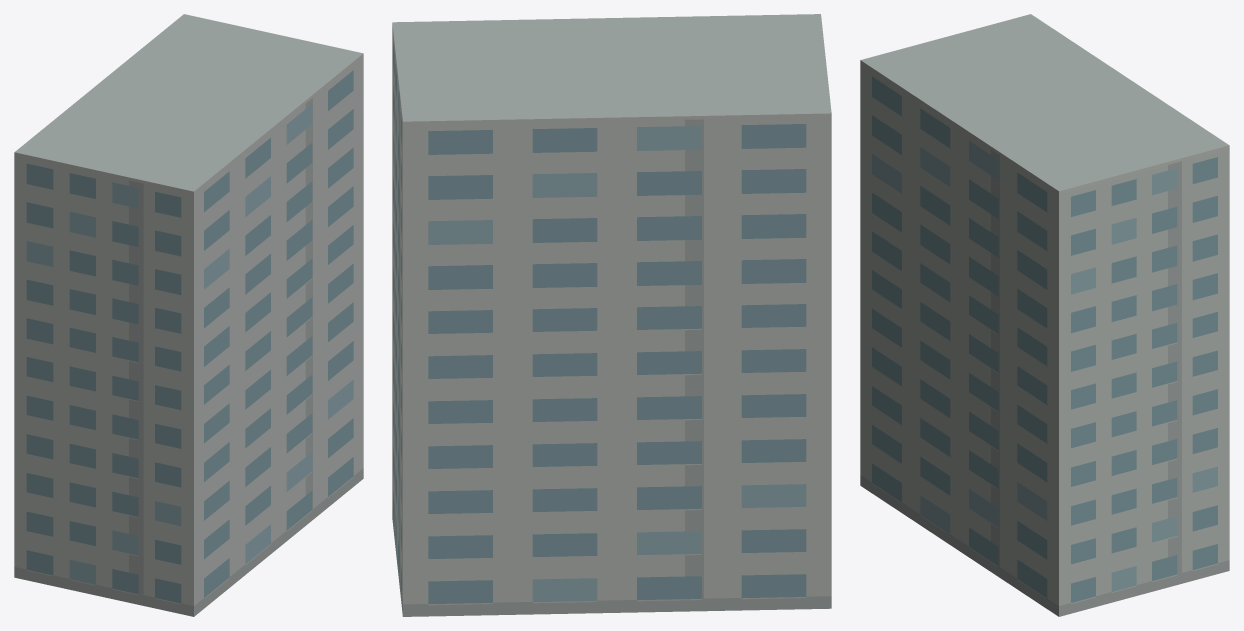
The model's file is residential-51fcd6c9-0e56-41c2-8e9c-8c9070076f2b.glb.
3 renders of one model, left to right at view 1: azimuth 30°, elevation 25°; view 2: azimuth 150°, elevation 25°; view 3: azimuth 270°, elevation 25°, orthographic. The views are drawn at different scales.
Parts seen in each view (by area): view 1: residential-51fcd6c9-0e56-41c2-8e9c-8c9070076f2b.tmp; view 2: residential-51fcd6c9-0e56-41c2-8e9c-8c9070076f2b.tmp; view 3: residential-51fcd6c9-0e56-41c2-8e9c-8c9070076f2b.tmp.
Boxes of the visible parts, x1,y1,x2,y2 form: residential-51fcd6c9-0e56-41c2-8e9c-8c9070076f2b.tmp: (14, 14, 363, 616); residential-51fcd6c9-0e56-41c2-8e9c-8c9070076f2b.tmp: (392, 14, 831, 616); residential-51fcd6c9-0e56-41c2-8e9c-8c9070076f2b.tmp: (860, 14, 1229, 616).
Size of the model in its own units: 30.4 by 34 by 26.74.
